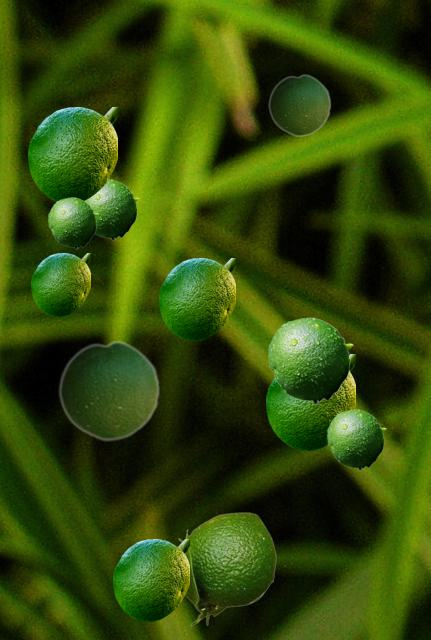dalandan: (178, 512, 275, 625), (58, 339, 159, 441), (266, 354, 354, 449), (28, 107, 116, 201), (268, 317, 352, 403), (159, 258, 234, 339), (113, 539, 188, 620), (268, 73, 330, 136), (31, 253, 89, 315), (327, 409, 385, 469), (86, 179, 138, 239), (48, 197, 97, 248)
